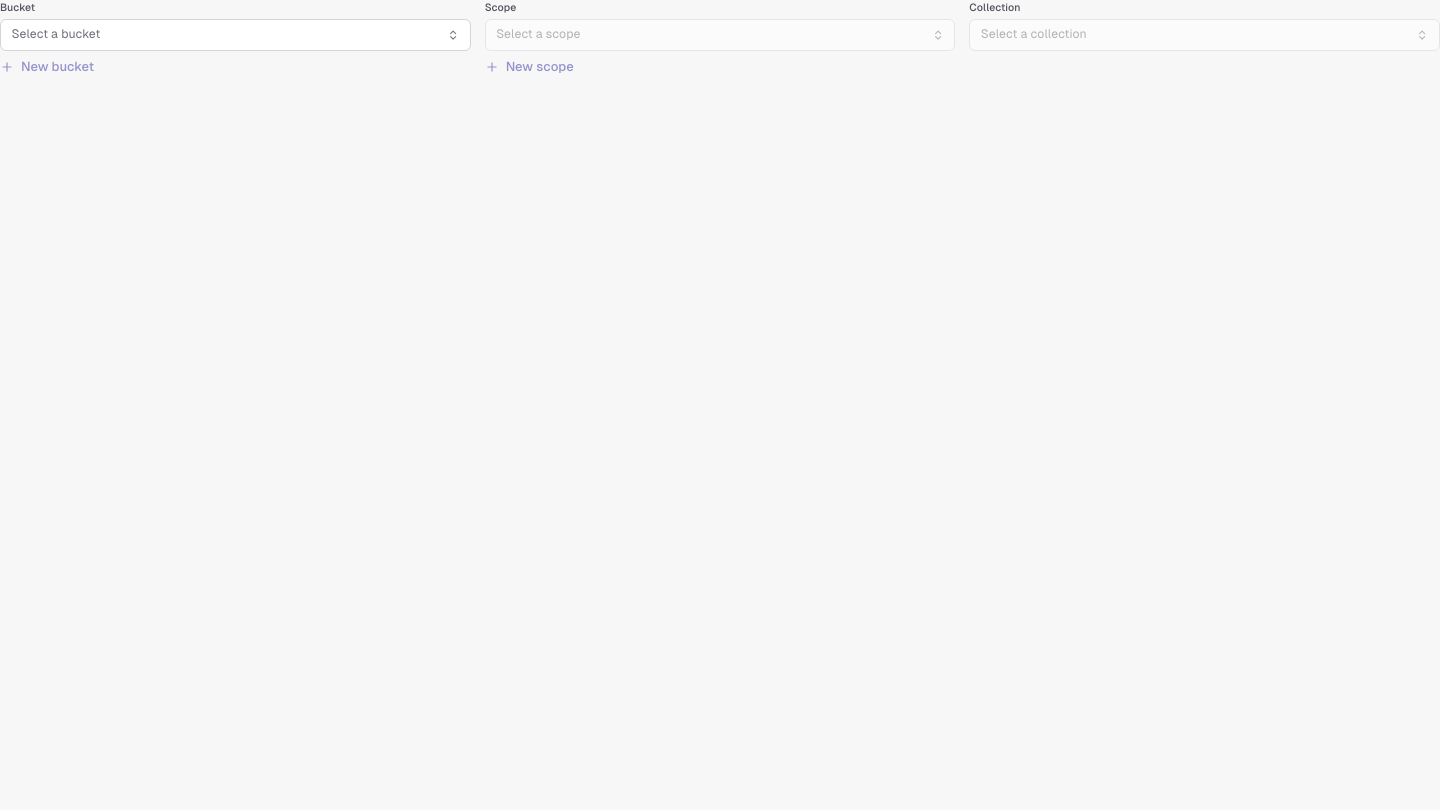
KeyspacePicker › AC3: disables actions per capabilities
expect the button "New bucket" is disabled: met, box top-left (0, 54), bottom-right (94, 79)
expect the button "New scope" is disabled: met, box top-left (485, 54), bottom-right (574, 79)
Click the dropdown labelled "bucket": (56, 34) top-left (0, 19), bottom-right (471, 51)
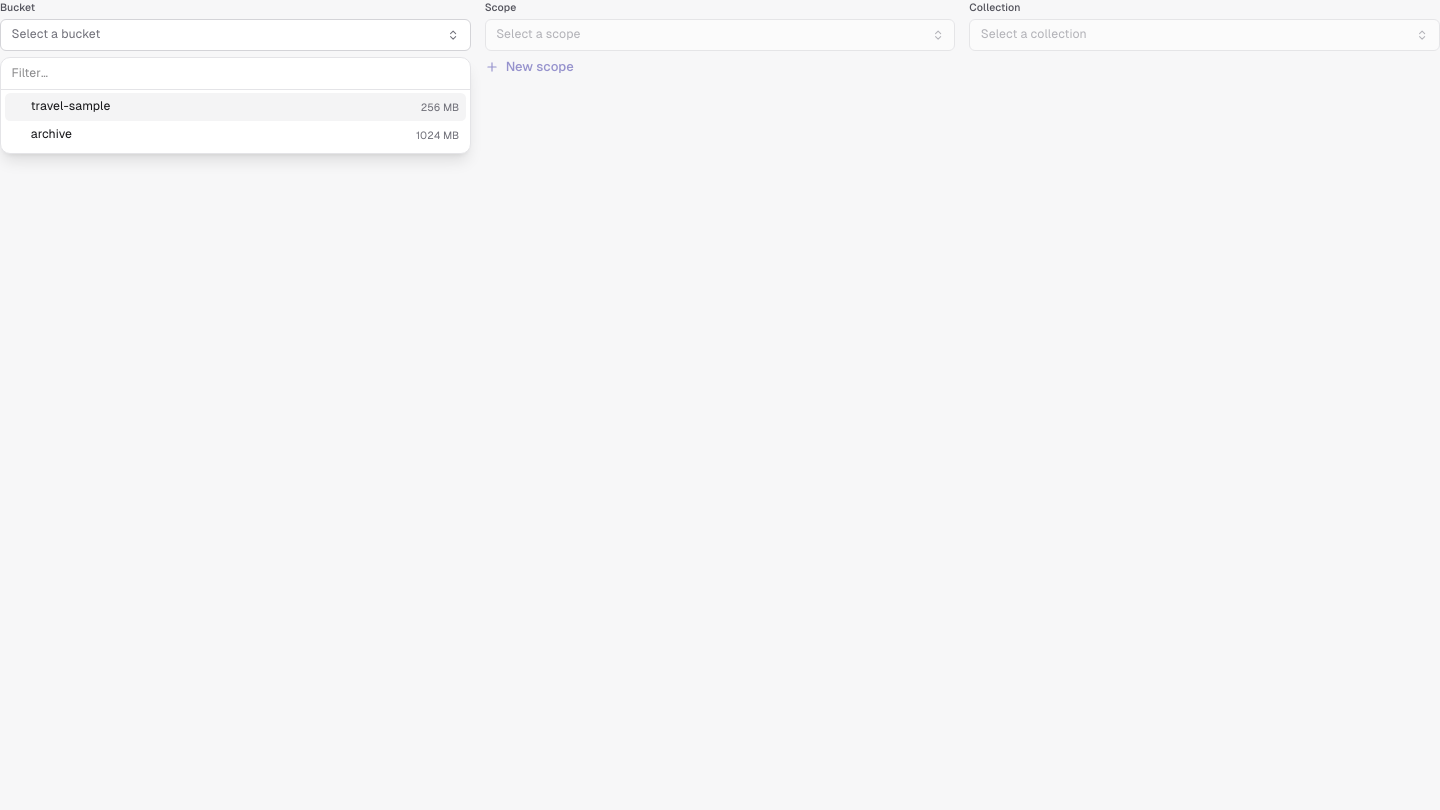
Click the option "archive 1024 MB": (51, 134) top-left (31, 127), bottom-right (459, 141)
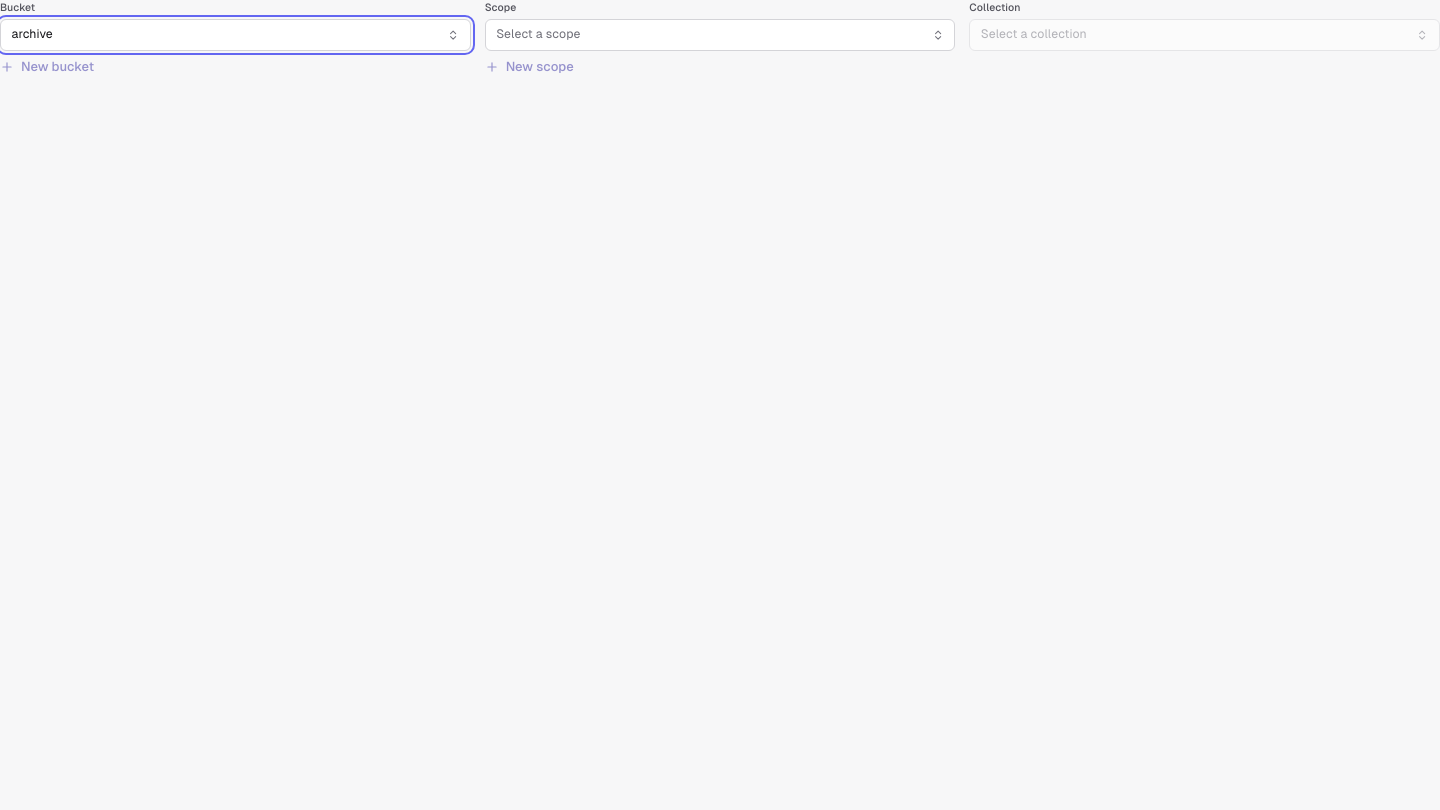
expect the element named "New scope: This credential can't create scopes or collections in this bucket." is shown: met, box top-left (485, 54), bottom-right (574, 79)
Click the dropdown labelled "scope": (538, 34) top-left (485, 19), bottom-right (955, 51)
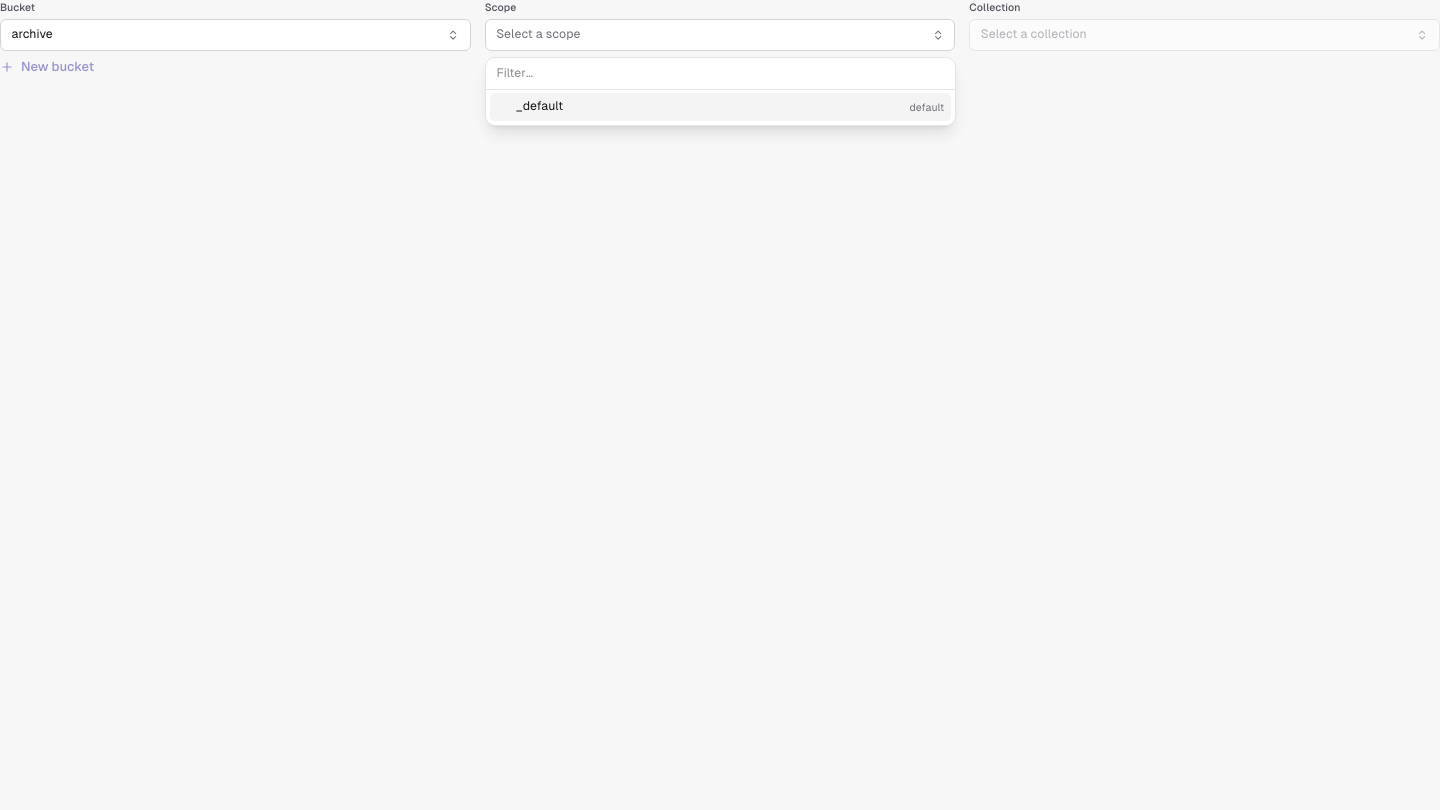
Click the option "_default default": (539, 106) top-left (490, 93), bottom-right (951, 121)
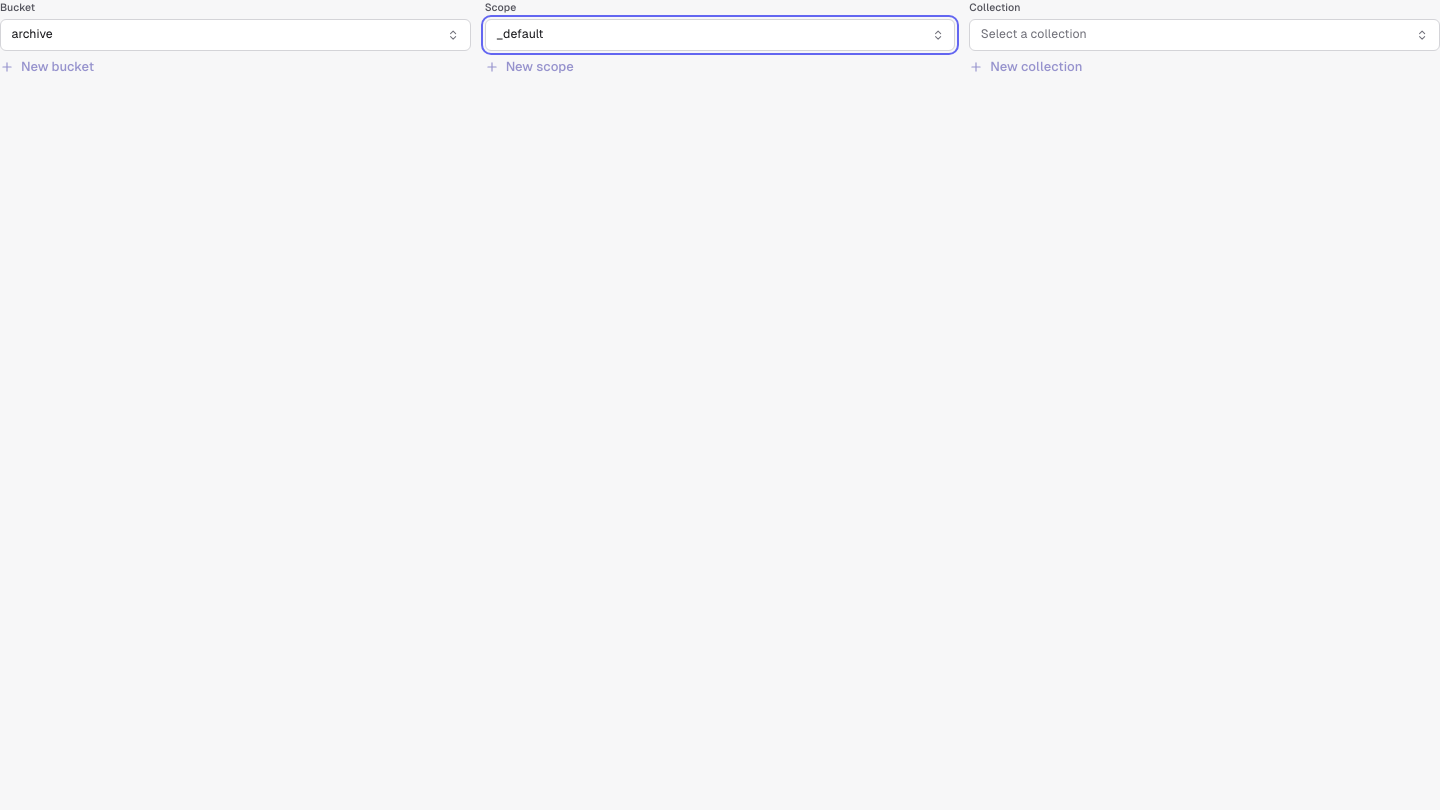
expect the button "New collection" is disabled: met, box top-left (969, 54), bottom-right (1082, 79)
Click the dropdown named "Bucket": (32, 34) top-left (0, 19), bottom-right (471, 51)
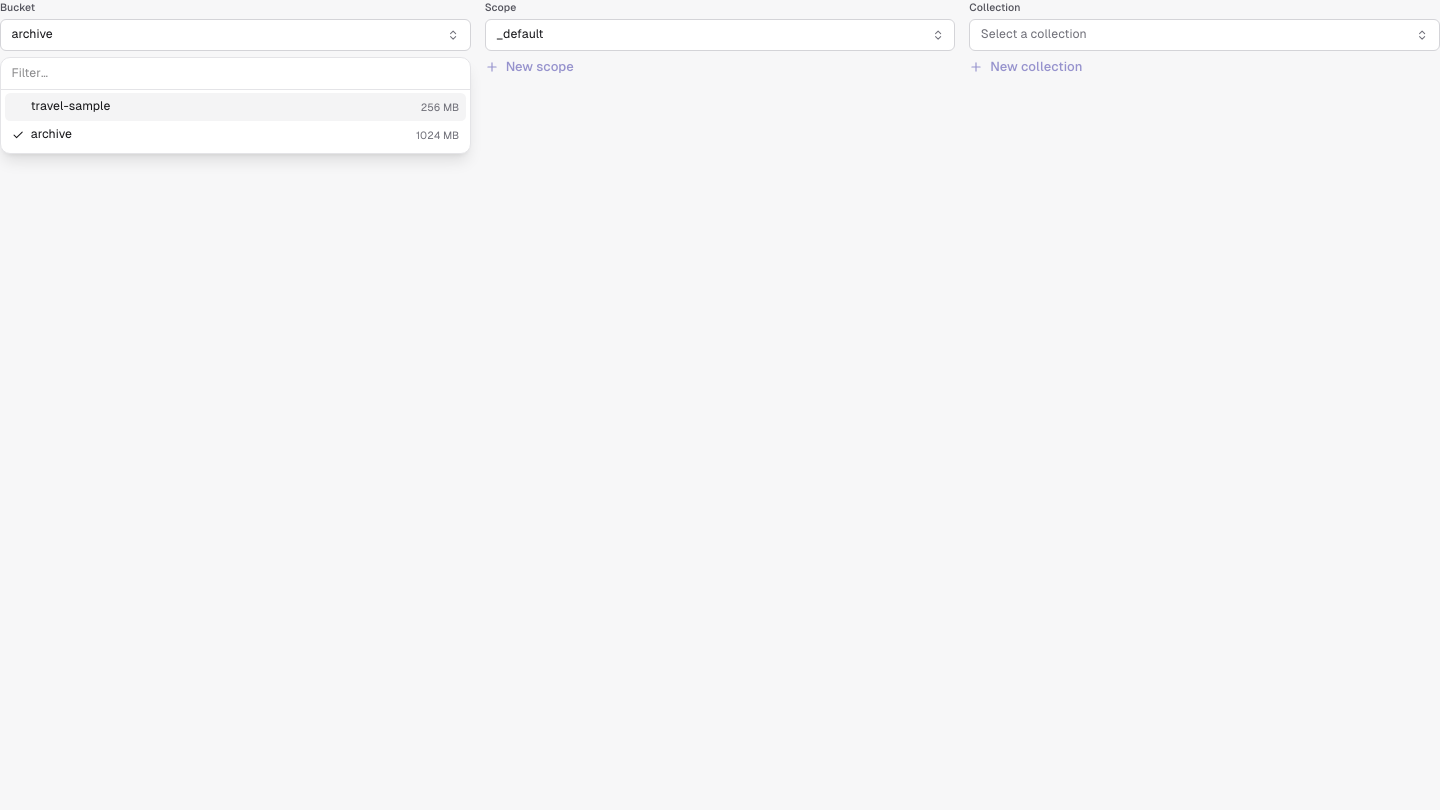
Click the option "travel-sample 256 MB": (71, 106) top-left (4, 93), bottom-right (466, 121)
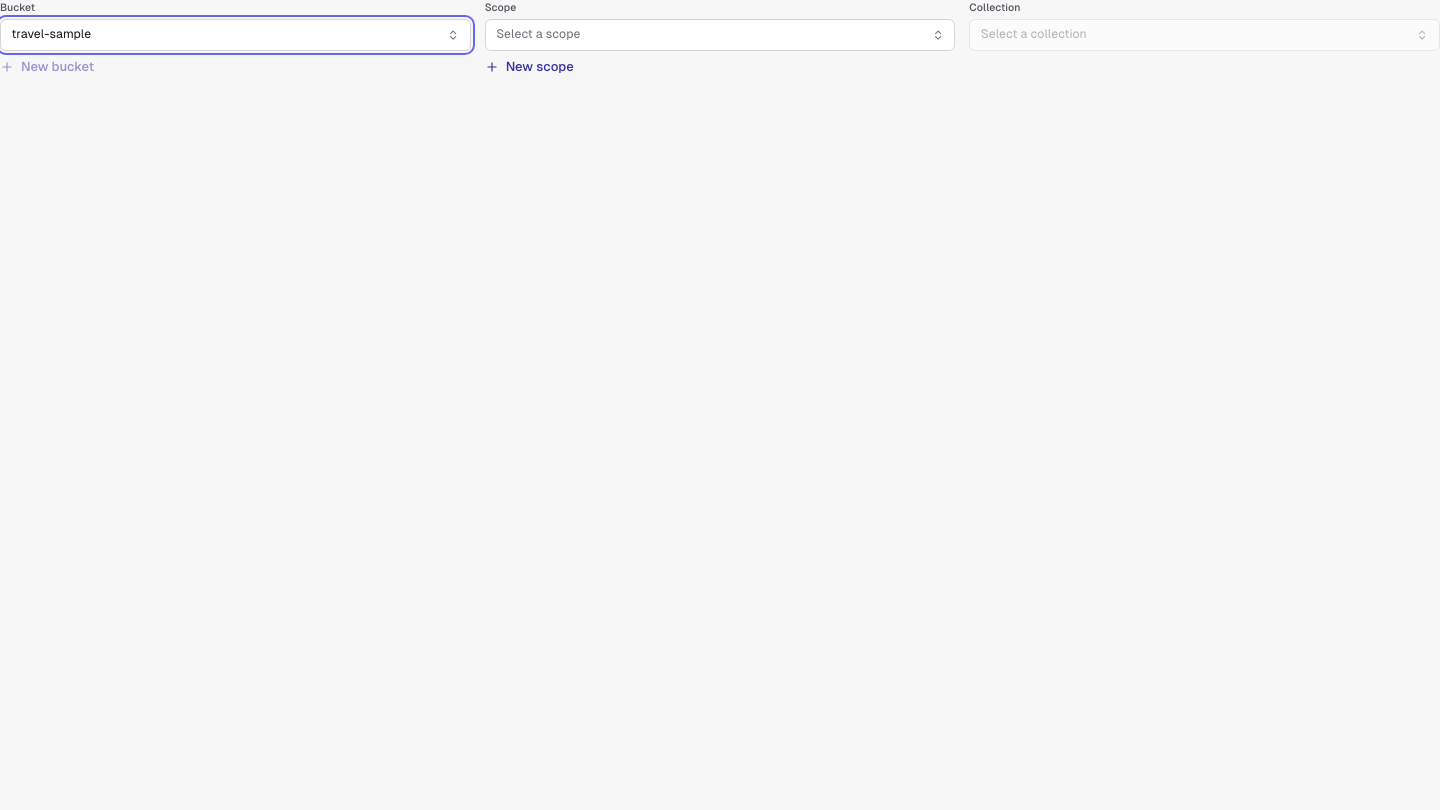
expect the button "New scope" is enabled: met, box top-left (485, 54), bottom-right (574, 79)
